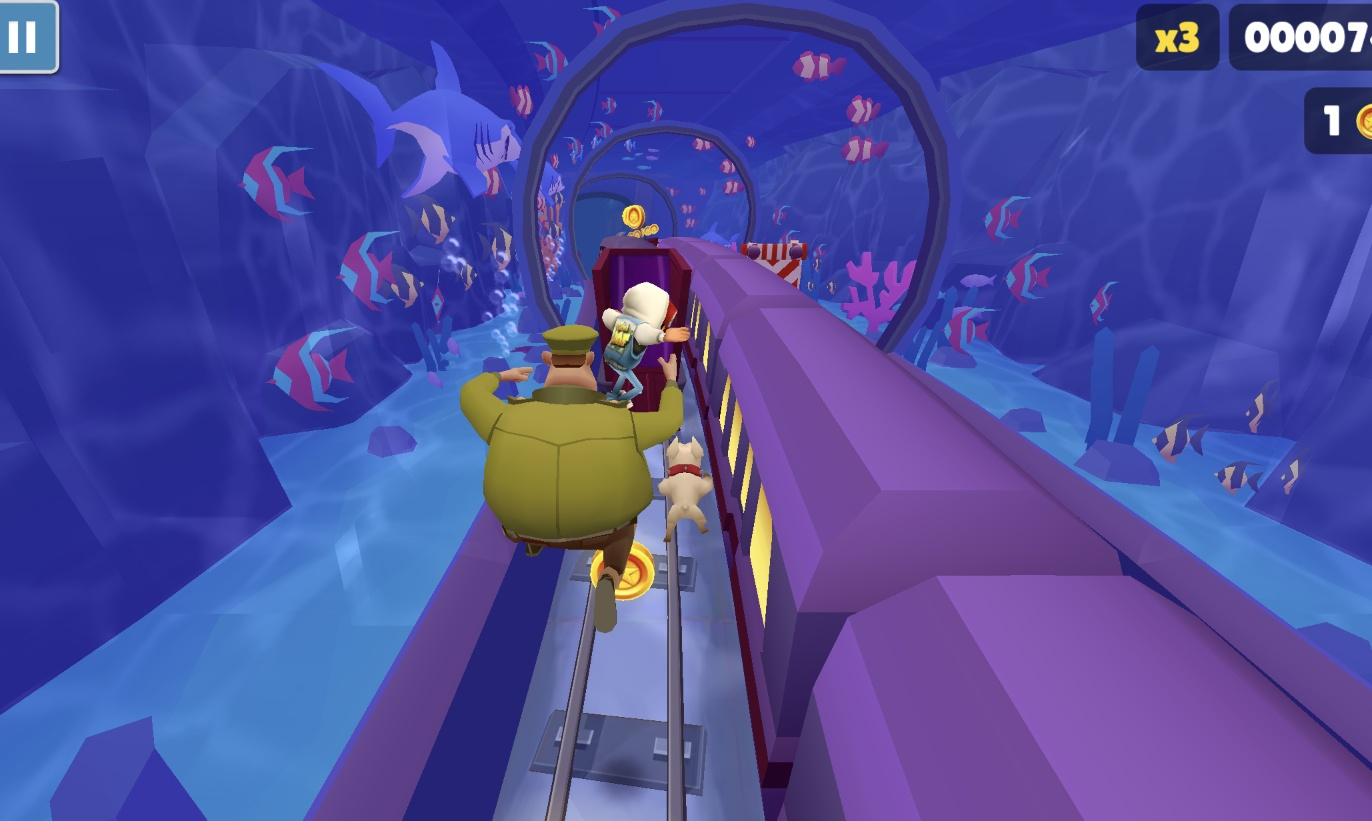overhead_barrier: (741, 236, 814, 300)
train: (662, 243, 1370, 821), (591, 243, 685, 394)
